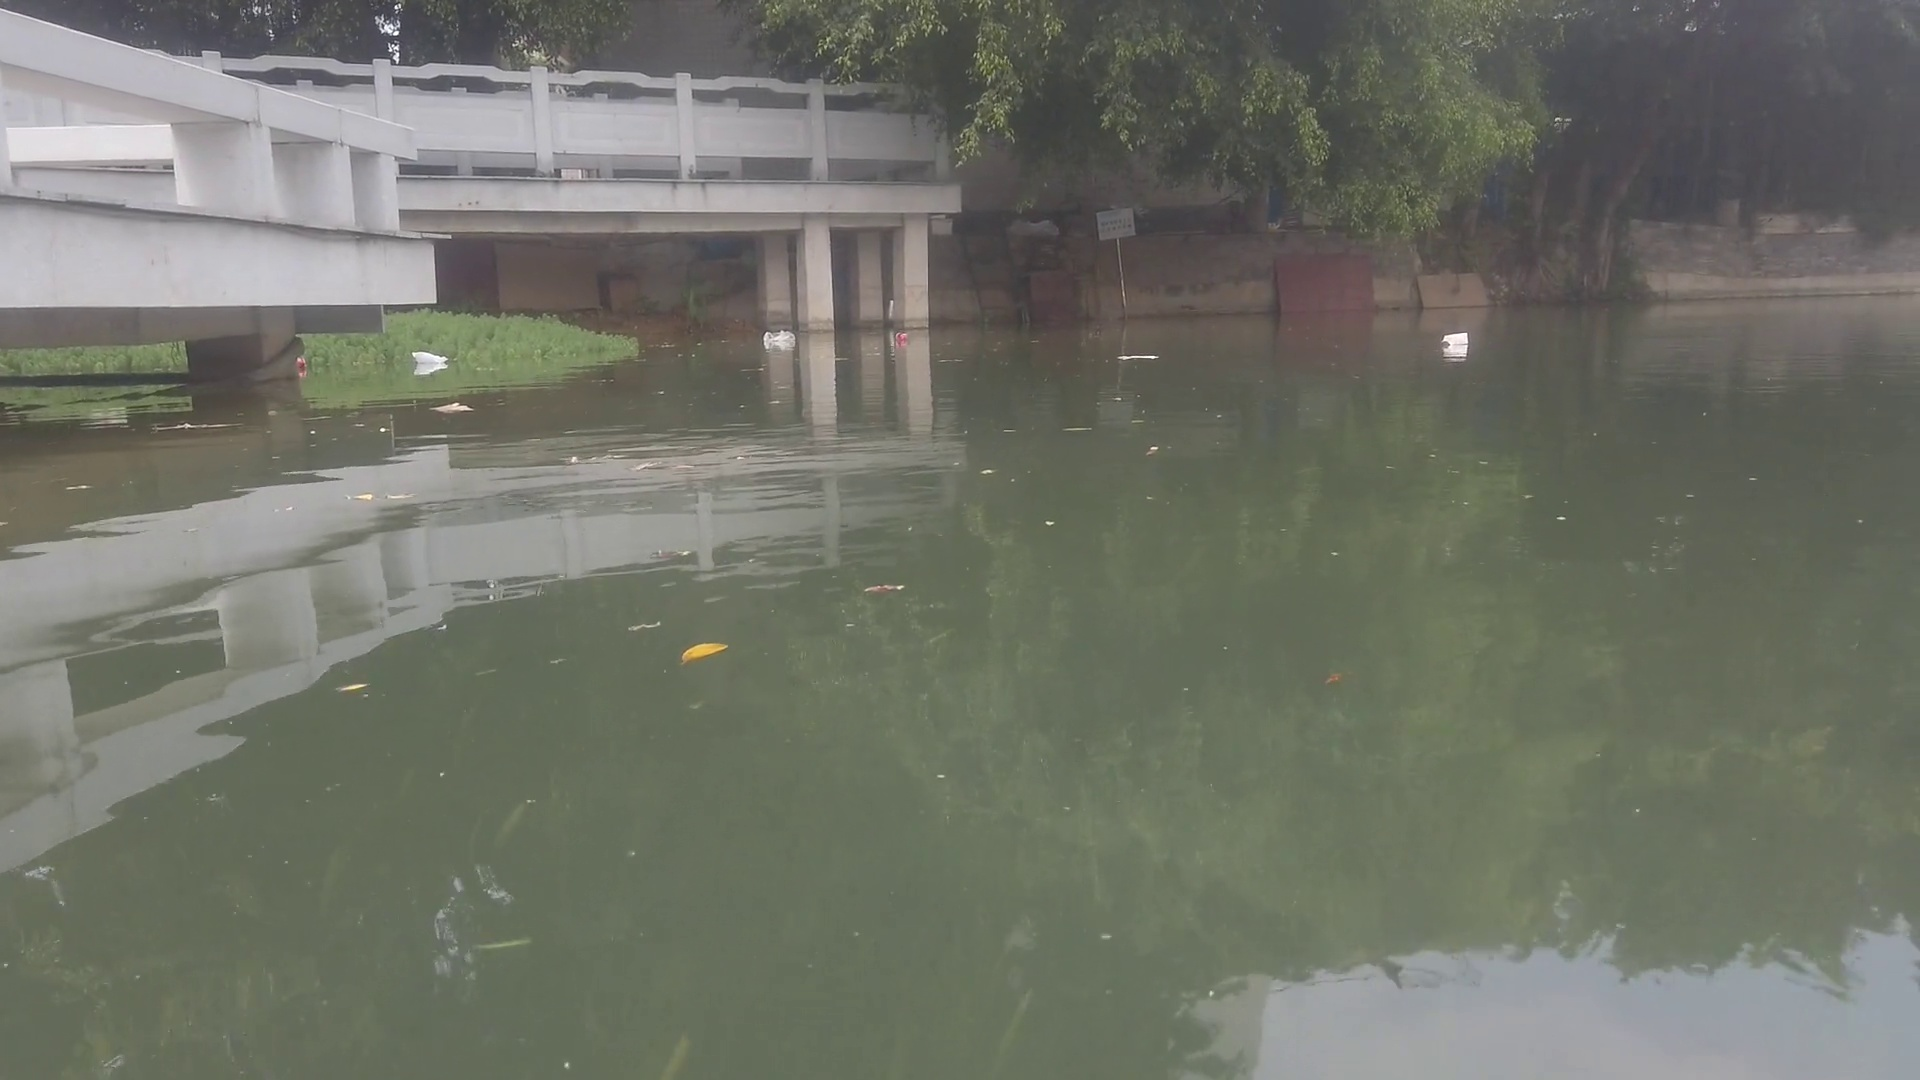bottle: (891, 330, 914, 348), (294, 355, 309, 371)
carton: (1437, 324, 1465, 345)
paper: (429, 400, 473, 423), (1118, 349, 1163, 364)
plastic: (762, 328, 796, 351), (414, 351, 450, 367)
